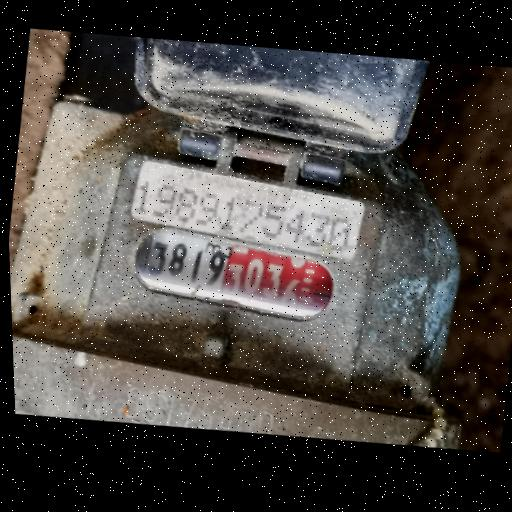1: (181, 236, 214, 292)
3: (217, 243, 253, 301), (139, 228, 175, 285), (238, 245, 272, 303), (257, 249, 291, 306)
6: (276, 253, 311, 310)
8: (162, 233, 197, 289)
9: (198, 238, 234, 295)
border_water_meter_number: (125, 215, 344, 334)
